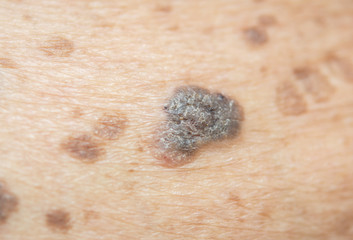melanoma: (137, 78, 258, 165)
